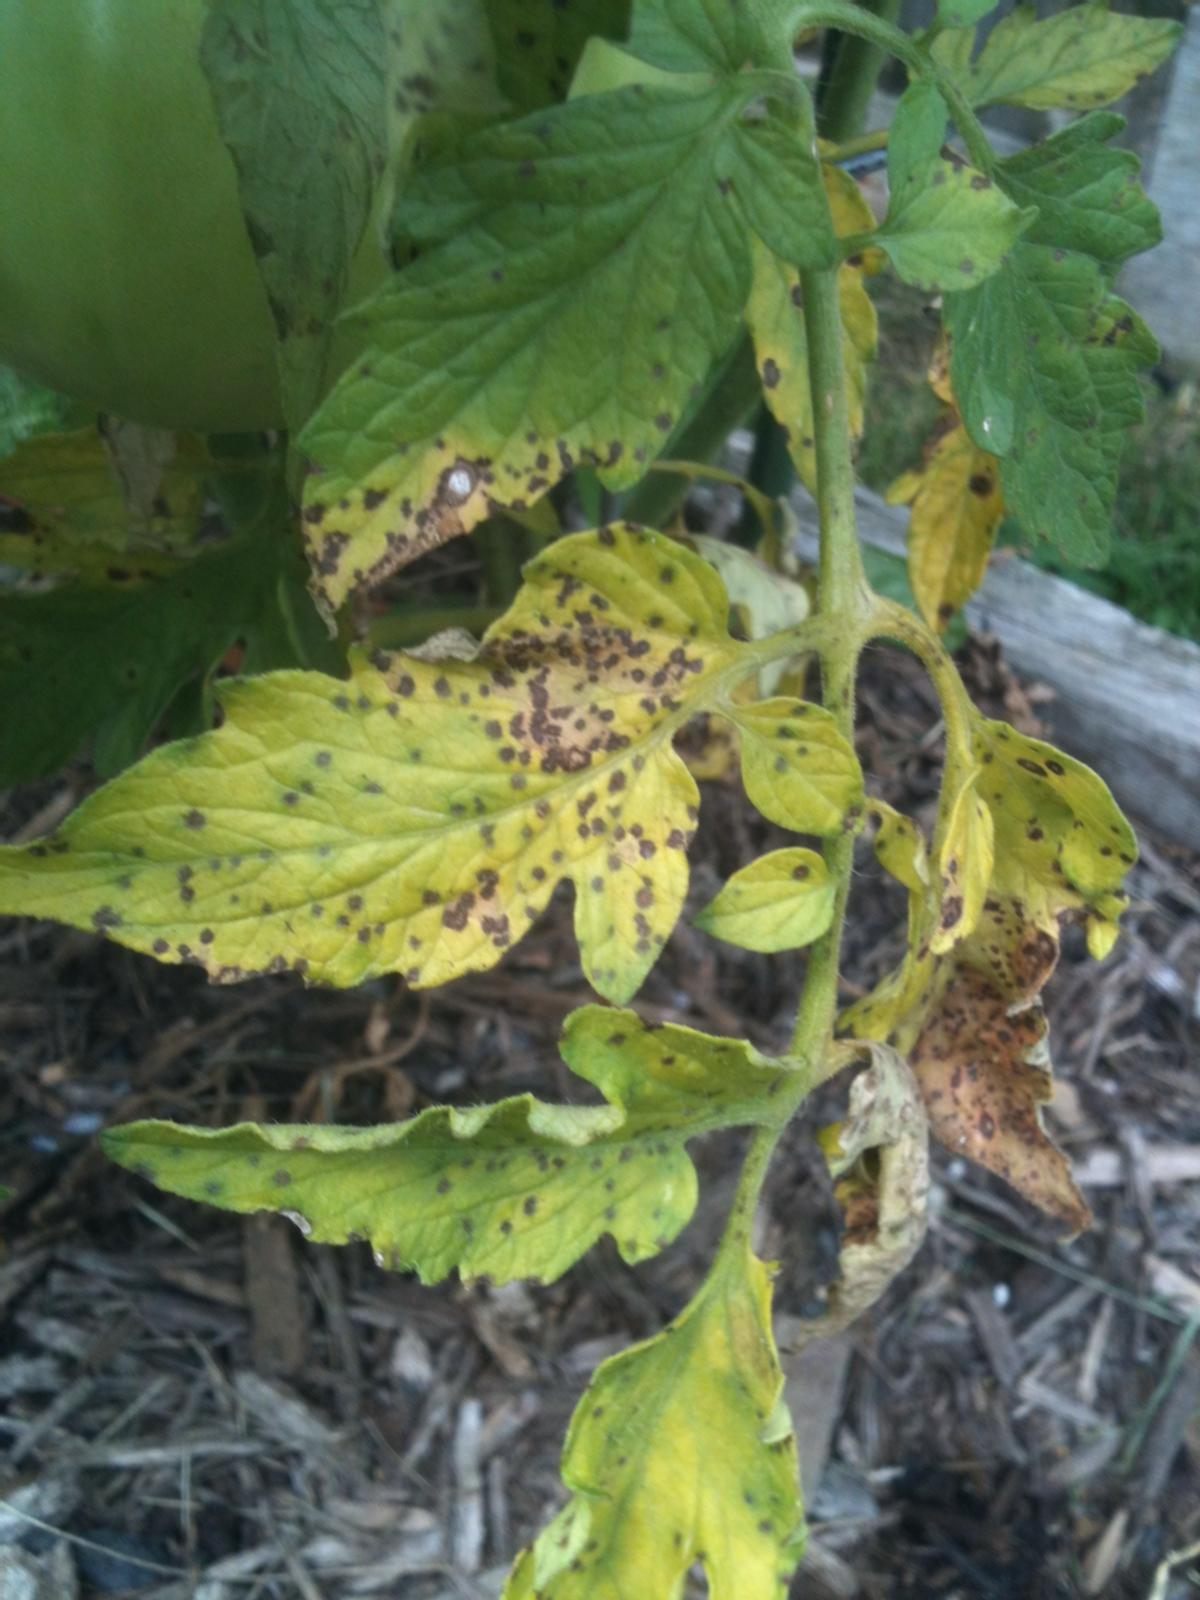Tomato Septoria leaf spot: (0, 529, 756, 1026), (281, 10, 868, 576), (95, 968, 833, 1288), (909, 666, 1199, 1300), (521, 1243, 836, 1600)
